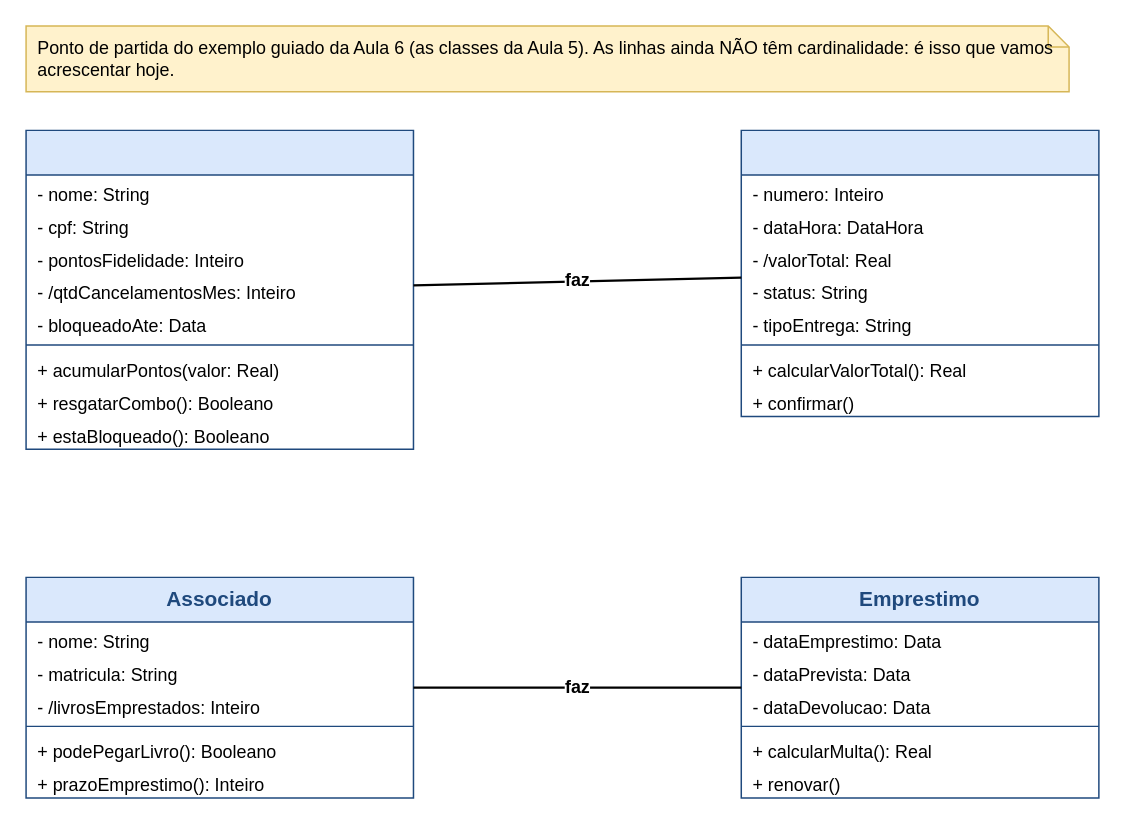
Image size: 1125x828. Some labels were removed from this diagram. Each missing label, with the box of its shape:
Cliente: (25, 129, 413, 449)
Pedido: (740, 129, 1099, 416)
